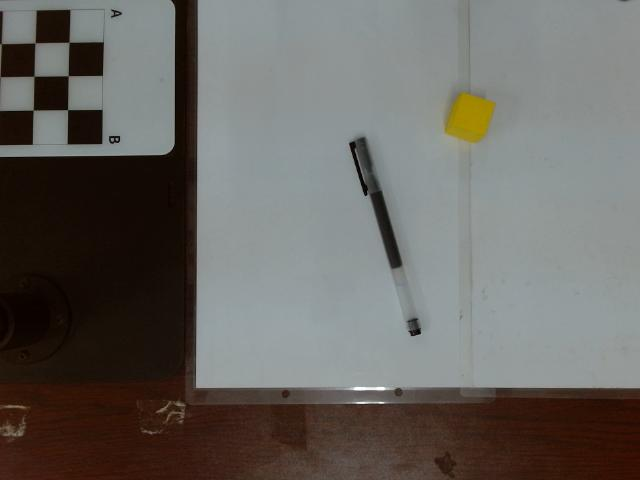PEN: (348, 136, 422, 338)
